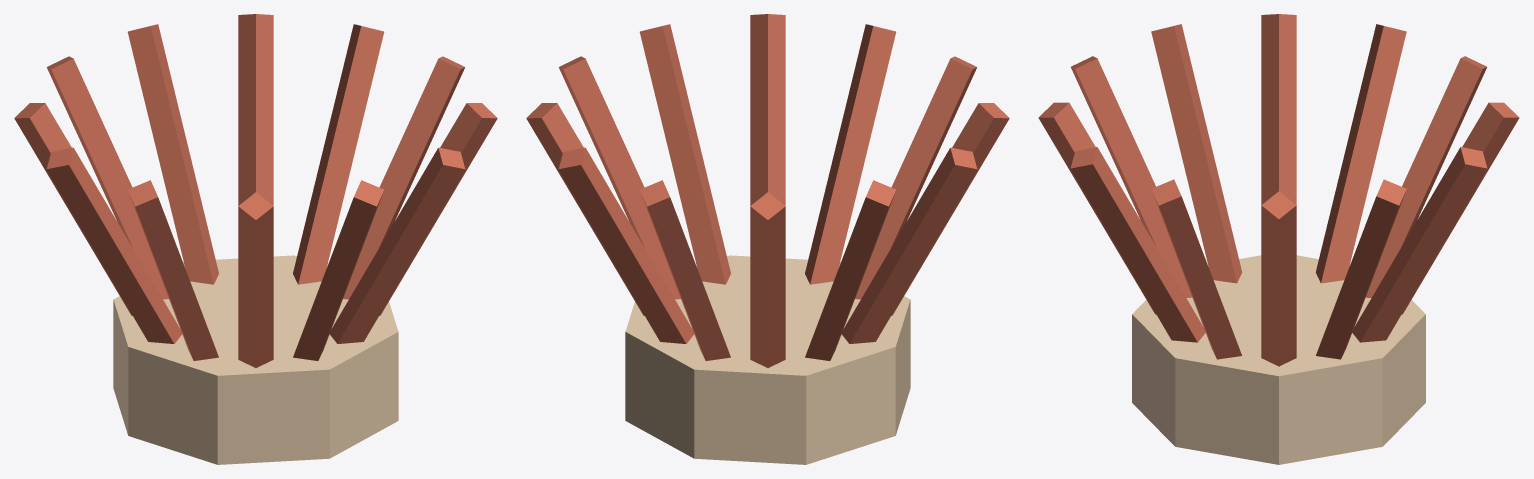
File: anemone.glb
The picture shows the model from 3 angles, left to right: view 1: azimuth 30°, elevation 25°; view 2: azimuth 150°, elevation 25°; view 3: azimuth 270°, elevation 25°; orthographic projection.
Parts seen in each view (by area): view 1: Foot, Tentacle.001, Tentacle.003, Tentacle.006, Tentacle.010, Tentacle.002, Tentacle, Tentacle.004, Tentacle.008, Tentacle.007, Tentacle.009, Tentacle.005 (+1 smaller); view 2: Foot, Tentacle.009, Tentacle.011, Tentacle.002, Tentacle.006, Tentacle.010, Tentacle, Tentacle.008, Tentacle.004, Tentacle.003, Tentacle.005, Tentacle.001 (+1 smaller); view 3: Foot, Tentacle.005, Tentacle.007, Tentacle.002, Tentacle.010, Tentacle.006, Tentacle.004, Tentacle.008, Tentacle, Tentacle.001, Tentacle.011, Tentacle.003 (+1 smaller).
Part boxes in pixels (x1,y1,x2,y2): Foot: (113, 255, 398, 464); Tentacle.001: (293, 24, 384, 284); Tentacle.003: (127, 24, 218, 284); Tentacle.006: (46, 147, 181, 343); Tentacle.010: (330, 147, 465, 343); Tentacle.002: (238, 14, 273, 205); Tentacle: (343, 56, 465, 299); Tentacle.004: (46, 56, 168, 299); Tentacle.008: (238, 192, 273, 367); Tentacle.007: (128, 180, 218, 360); Tentacle.009: (293, 180, 383, 360); Tentacle.005: (14, 103, 132, 315); Foot: (625, 255, 910, 464); Tentacle.009: (805, 24, 896, 284); Tentacle.011: (639, 24, 730, 284); Tentacle.002: (558, 147, 693, 343); Tentacle.006: (842, 147, 977, 343); Tentacle.010: (750, 14, 785, 205); Tentacle: (558, 56, 680, 299); Tentacle.008: (855, 56, 977, 299); Tentacle.004: (750, 192, 785, 367); Tentacle.003: (640, 180, 730, 360); Tentacle.005: (805, 180, 895, 360); Tentacle.001: (526, 103, 644, 315); Foot: (1132, 255, 1425, 464); Tentacle.005: (1315, 24, 1406, 283); Tentacle.007: (1151, 24, 1242, 283); Tentacle.002: (1352, 147, 1487, 342); Tentacle.010: (1070, 147, 1205, 342); Tentacle.006: (1261, 14, 1296, 204); Tentacle.004: (1365, 56, 1486, 297); Tentacle.008: (1071, 56, 1192, 297); Tentacle: (1261, 191, 1296, 366); Tentacle.001: (1316, 179, 1406, 359); Tentacle.011: (1151, 179, 1241, 359); Tentacle.003: (1401, 102, 1519, 314).
Bounding box in the file's own units: 0.4917 × 0.3385 × 0.4917.
